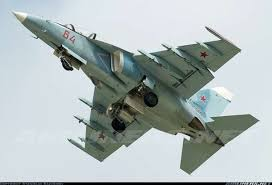maybay_muctieu: (13, 6, 253, 171)
ten_lua: (162, 44, 201, 74), (73, 112, 98, 135), (80, 95, 103, 115)
